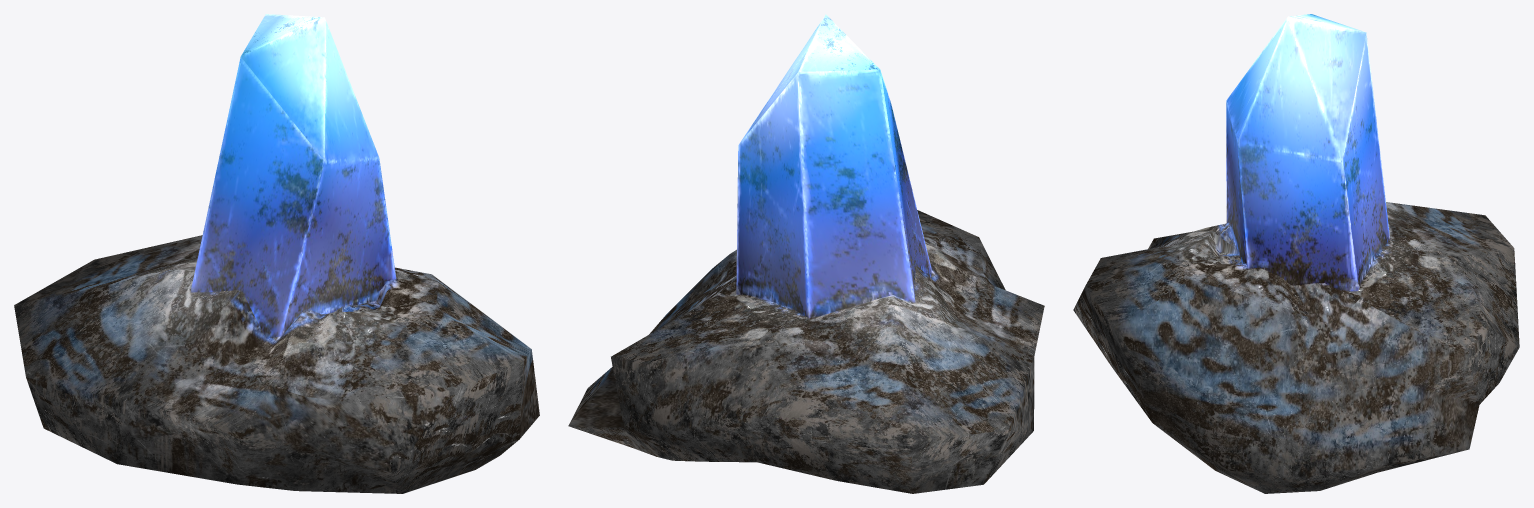
Rendered from gem.gltf.
3 views of the same model, side by side, from view 1: azimuth 30°, elevation 25°; view 2: azimuth 150°, elevation 25°; view 3: azimuth 270°, elevation 25° (orthographic). The views are drawn at different scales.
Parts seen in each view (by area): view 1: caverock2_low; view 2: caverock2_low; view 3: caverock2_low.
Boxes of the visible parts, <box> form: caverock2_low: <box>14,14,539,493</box>; caverock2_low: <box>568,14,1044,493</box>; caverock2_low: <box>1073,14,1519,493</box>.
Bounding box in the file's own units: 0.8107 × 0.7782 × 0.7792.
Materials: 1 (1 with a texture image).
